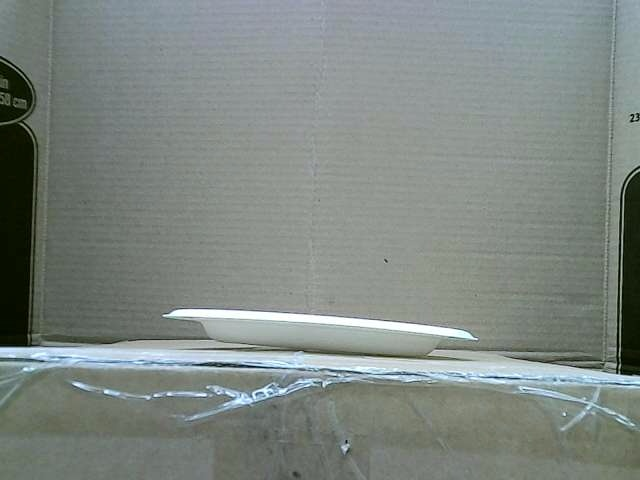Plate: (160, 307, 478, 357)
